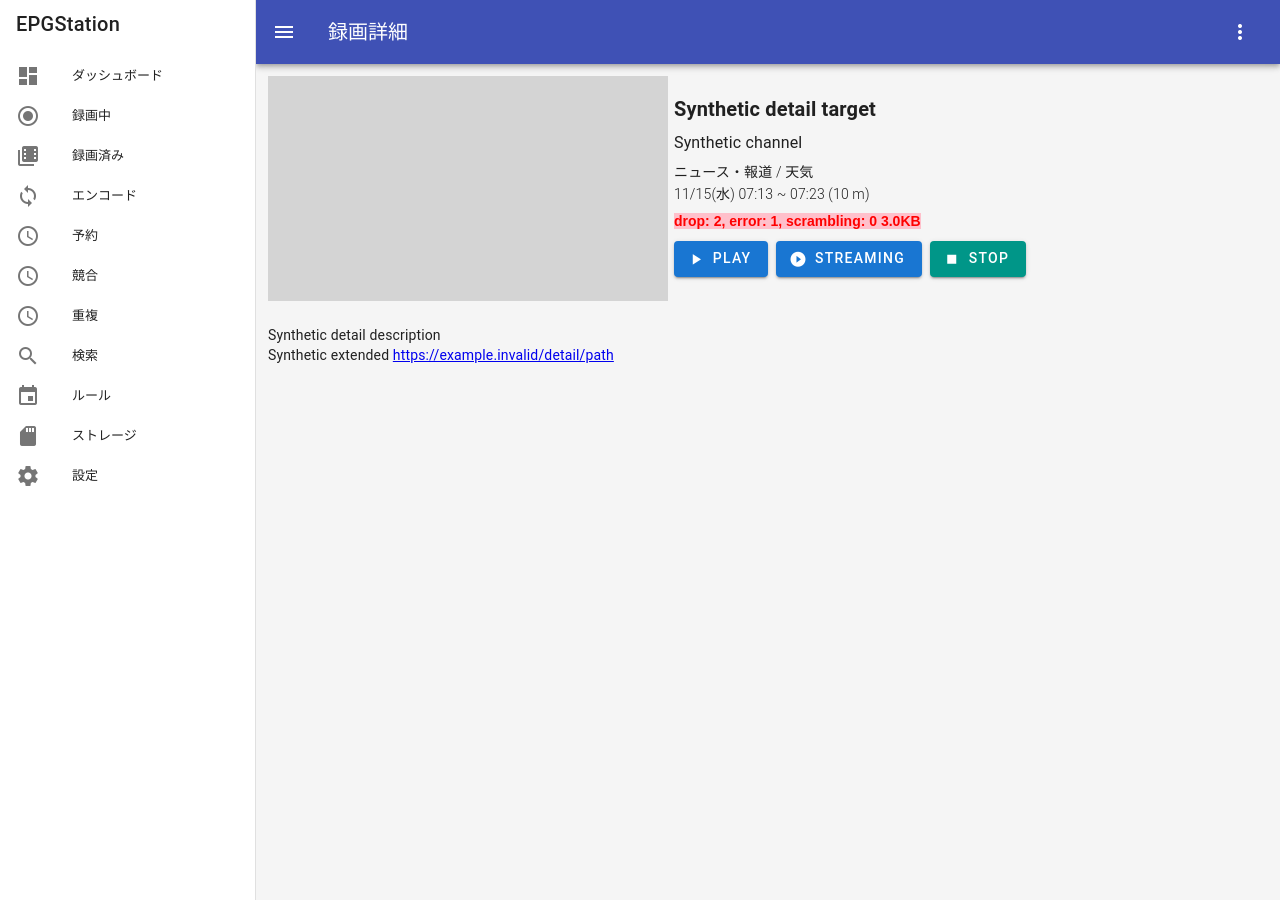
Scenario: Recorded detail route, data, and actions › [AC 3.14] uses raw download fallback when saved download scheme is whitespace and server config has no fallback
The width and height of the screenshot is (1280, 900).
Expected: the element with test id "recorded-detail-page" is shown, x1=268 y1=76 x2=1026 y2=363
Click the button named "録画詳細メニュー: Synthetic detail target": (1240, 32) x1=1216 y1=8 x2=1264 y2=56
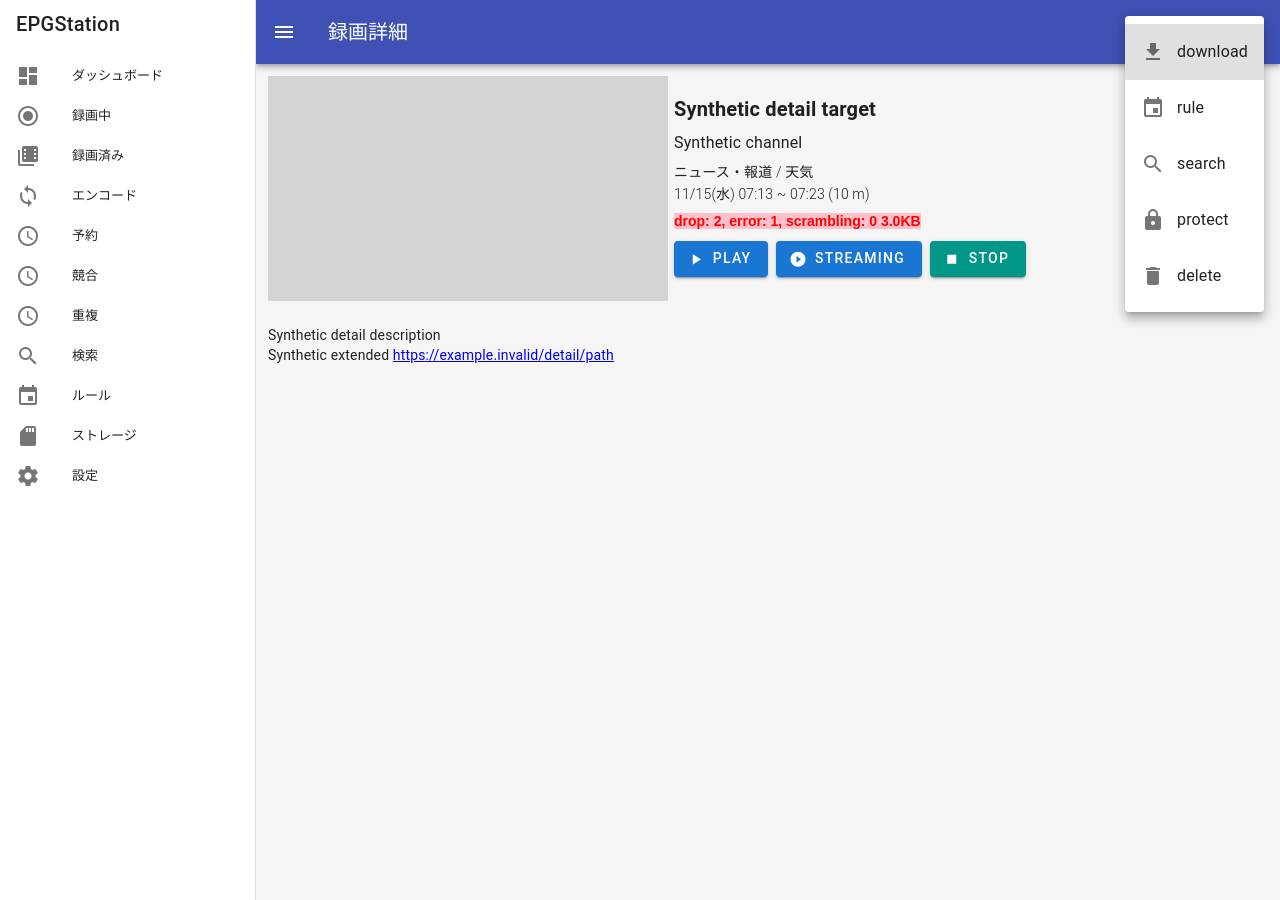
Click the menu item "download": (1194, 52) x1=1125 y1=24 x2=1264 y2=80
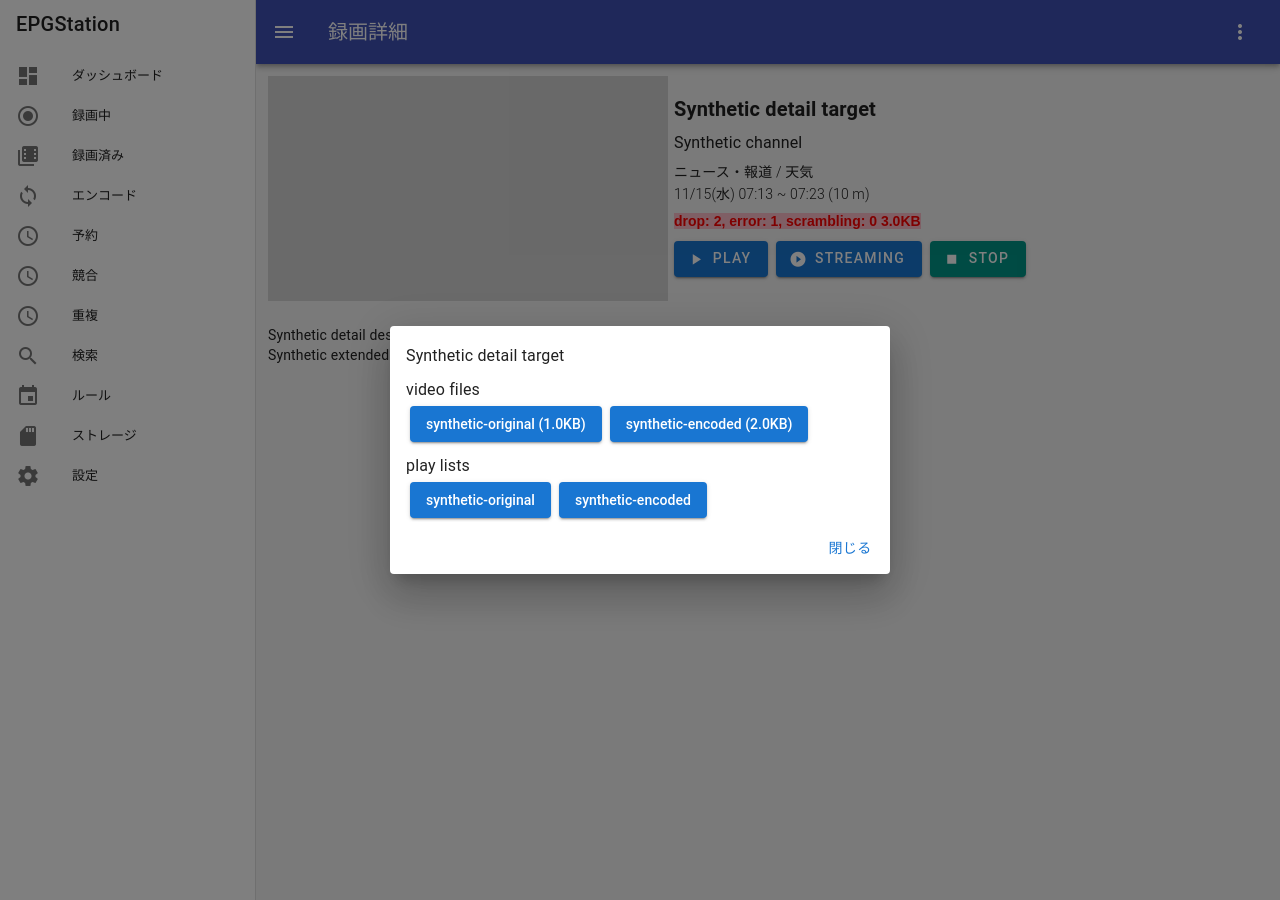
Now the dialog named "録画ダウンロード" is shown, box x1=390 y1=326 x2=890 y2=574
